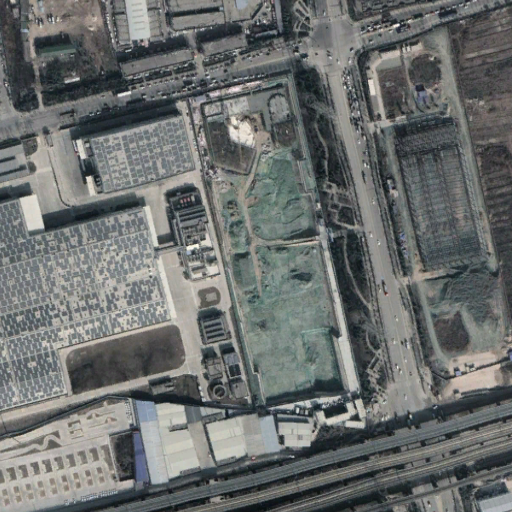cw: (202, 148, 342, 408), (411, 256, 505, 366)
